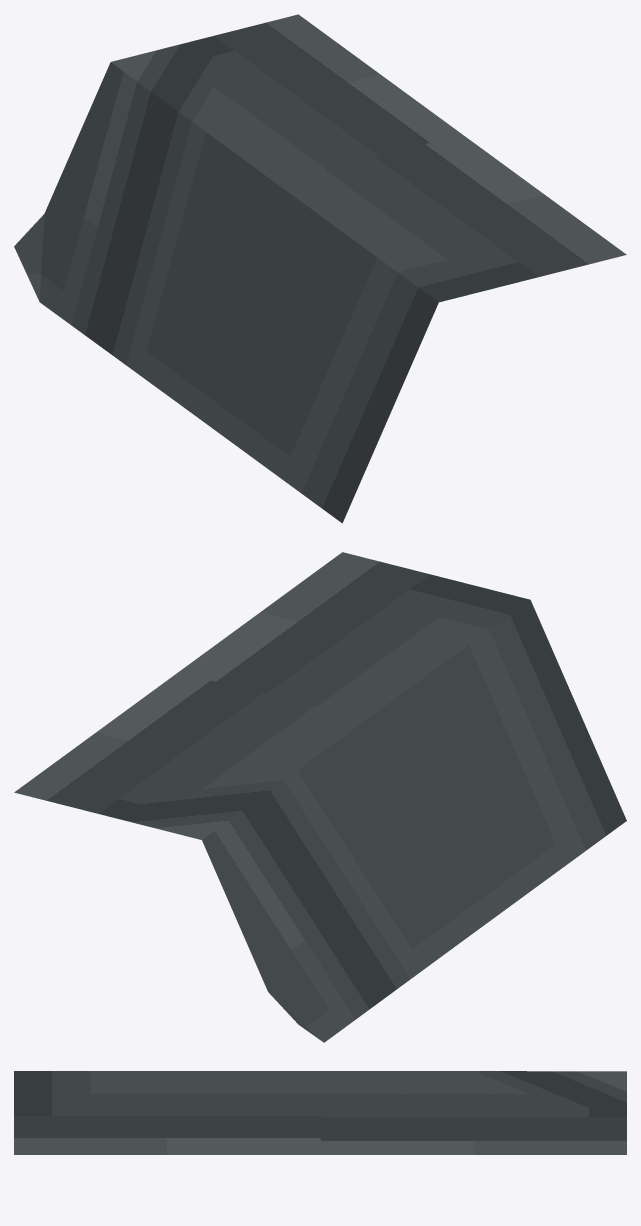
3 renders of one model, top to bottom at view 1: azimuth 30°, elevation 25°; view 2: azimuth 150°, elevation 25°; view 3: azimuth 270°, elevation 25°, orthographic. The views are drawn at different scales.
Size of the model in its own units: 0.5 by 0.3354 by 1.
2 materials, 2 textured.
